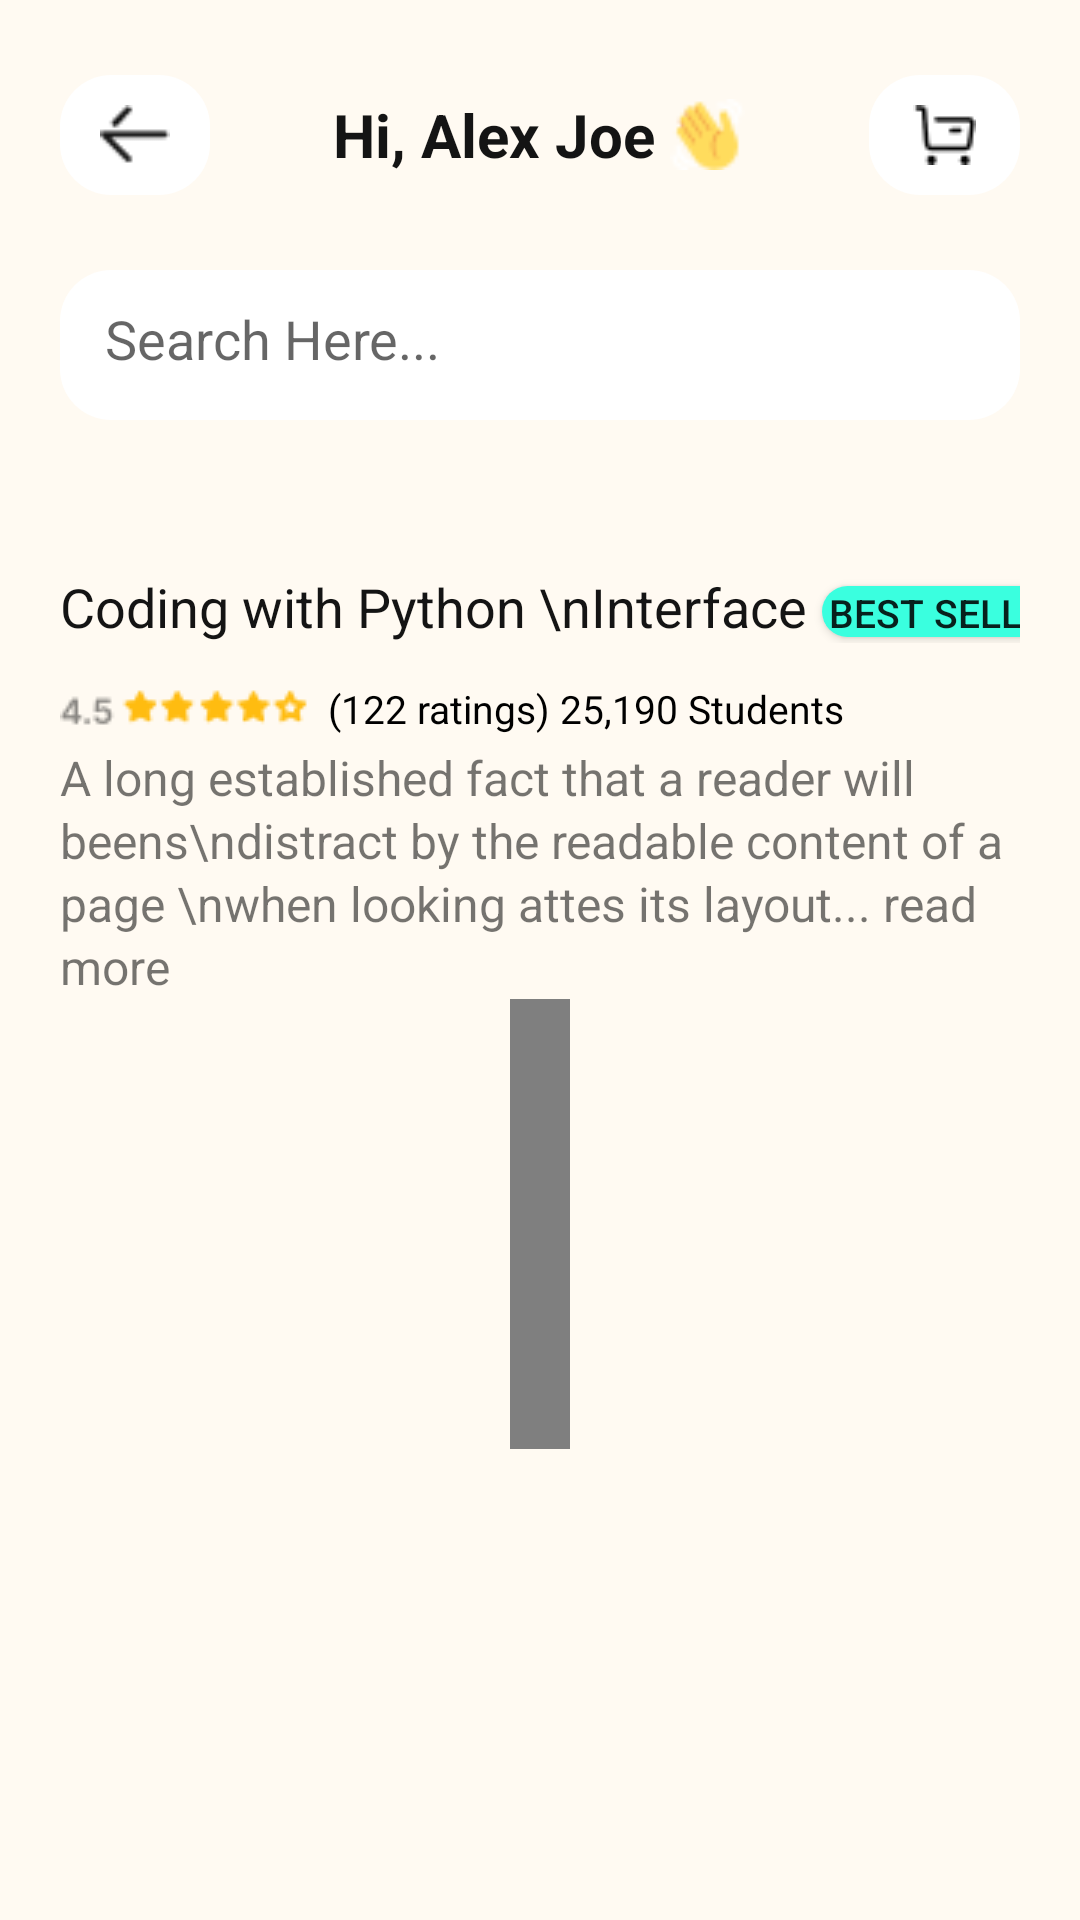

Named icons in this screenshot (1080 x 1920) and their centers, [x,y]:
arrowback: [135,135]
cart: [944,135]
hiemoji: [707,135]
